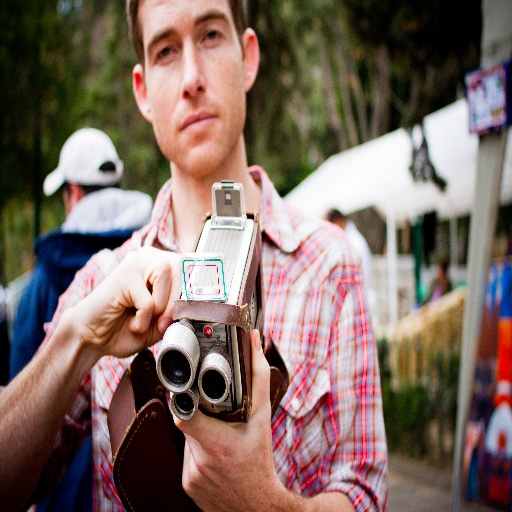hand: (169, 328, 282, 511), (47, 245, 181, 385)
